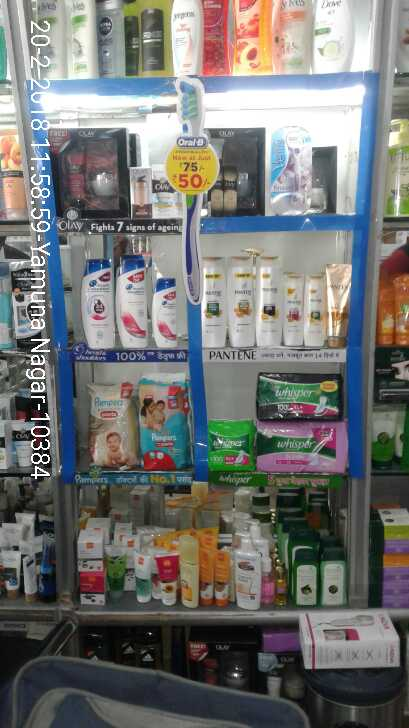venus: (271, 124, 315, 214)
